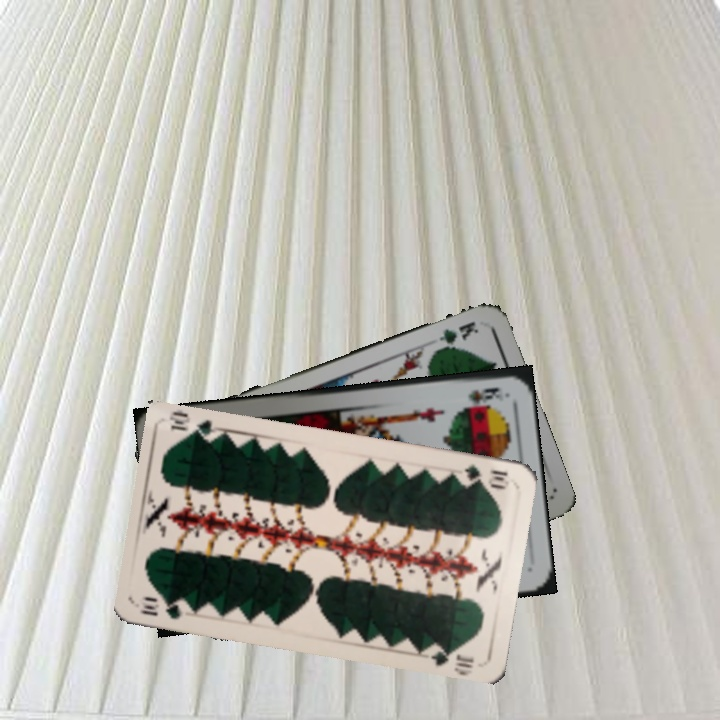G10: (460, 459, 510, 491), (136, 592, 184, 622)
GK: (431, 317, 481, 355)
SK: (464, 383, 506, 406)
